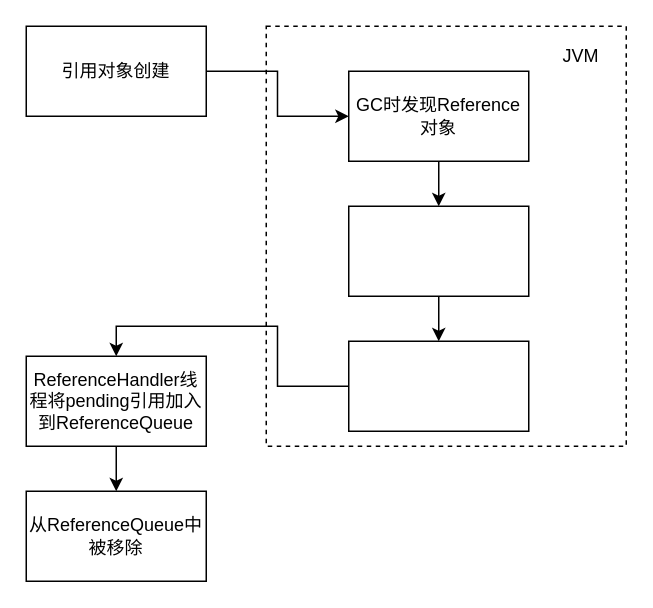
This 653x608 diagram has some shape labels left out. The centre of each missing label's shape, as x and y in pixels:
"如指向的对象需要被回收，则加入到DiscoveredList" goes at (438,250).
"将DiscoverList的元素移动到PendingList" goes at (438,385).
